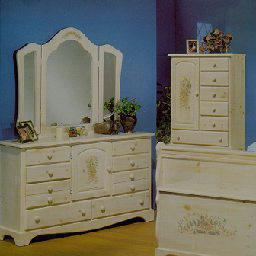Armario: (170, 53, 241, 144)
